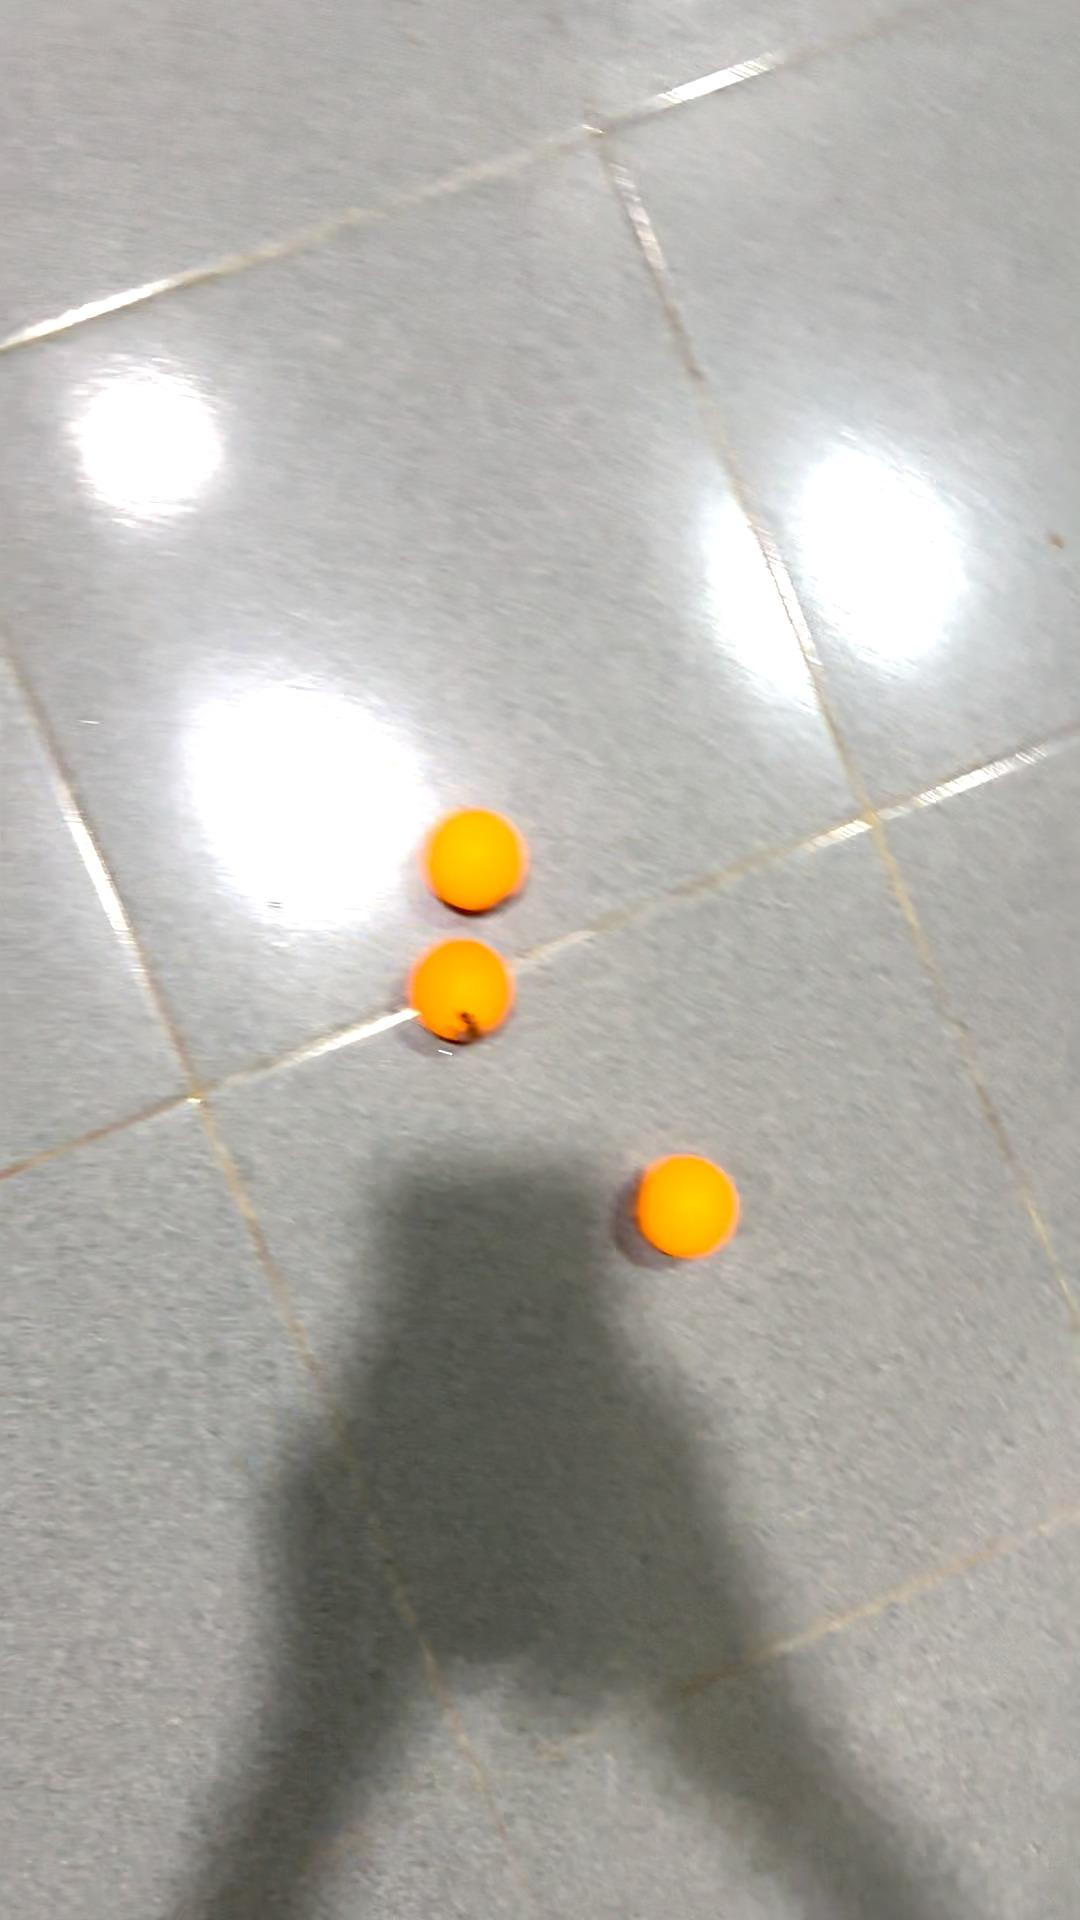oball: (628, 1147, 753, 1273), (401, 935, 520, 1051), (411, 808, 533, 922)
